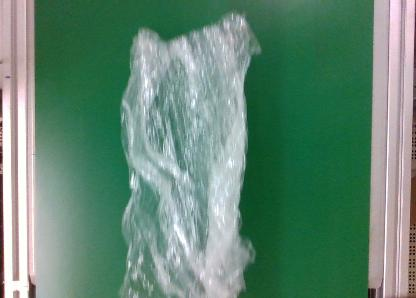Others: (112, 7, 261, 298)
